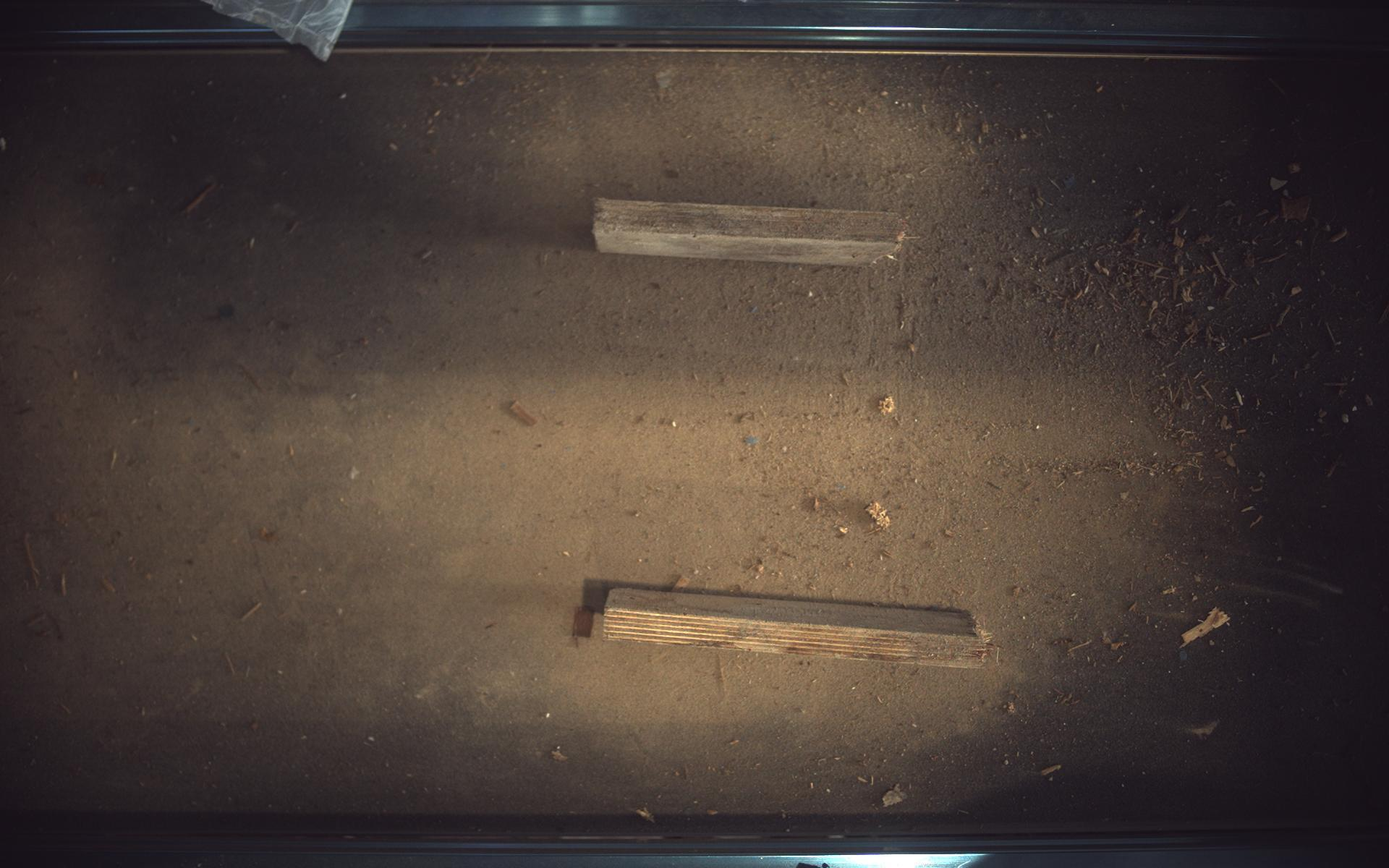wood: (603, 588, 994, 668), (594, 197, 907, 265)
